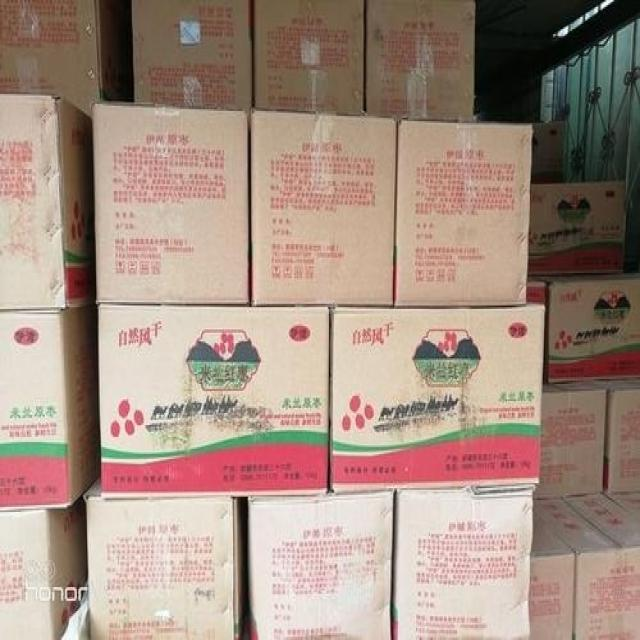box: (97, 304, 331, 495), (330, 306, 546, 495), (92, 101, 249, 303), (248, 113, 397, 306), (393, 119, 532, 307), (86, 475, 241, 638), (246, 493, 394, 638), (392, 486, 532, 638), (0, 90, 96, 309), (1, 304, 101, 511), (530, 493, 639, 638), (0, 0, 133, 118), (130, 0, 252, 110), (365, 0, 475, 121), (252, 1, 367, 113), (0, 496, 85, 638), (539, 271, 639, 382), (529, 183, 626, 279), (534, 379, 608, 501), (530, 507, 575, 638), (594, 379, 639, 493), (530, 122, 566, 183), (605, 490, 639, 519), (526, 278, 548, 305)
